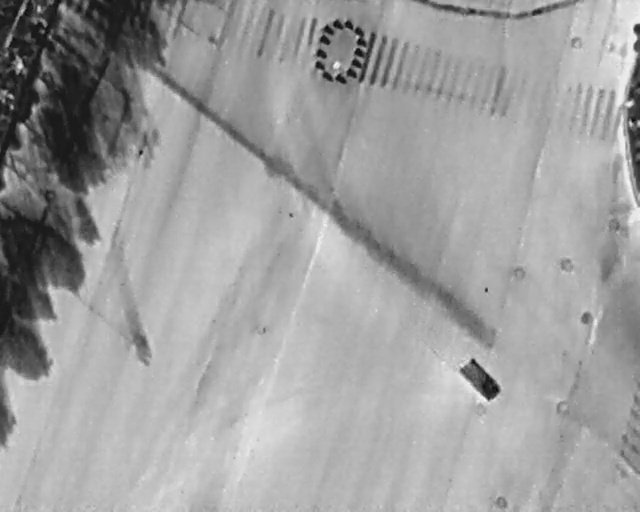Car: (457, 355, 503, 403)
